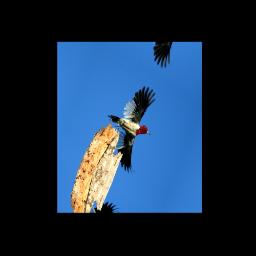Woodpecker: (93, 71, 166, 177)
